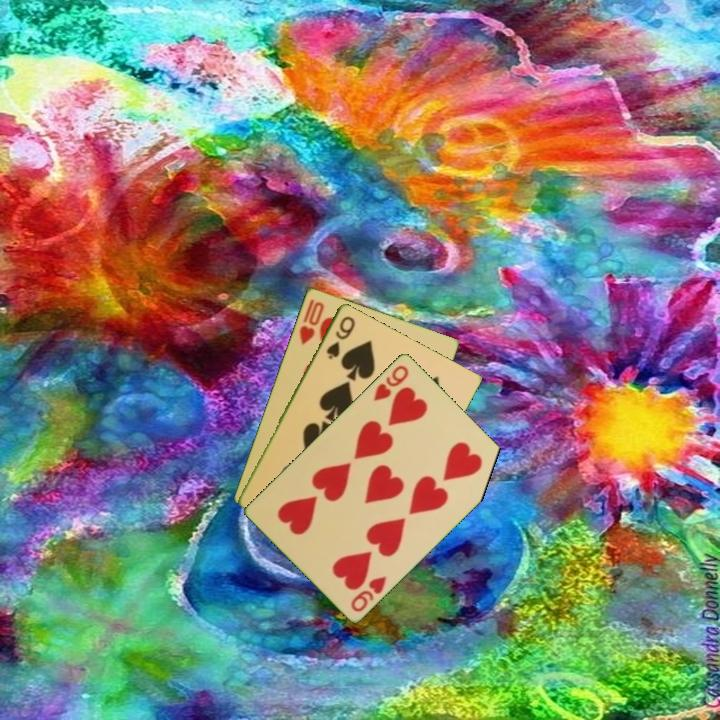10h: (296, 295, 327, 348)
9h: (370, 361, 412, 404), (347, 572, 389, 615)
9s: (322, 312, 358, 362)
